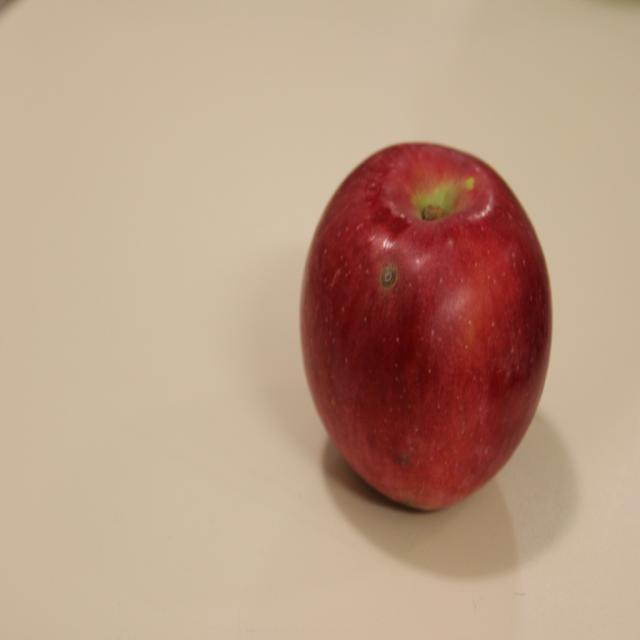Apple: (299, 140, 553, 514)
